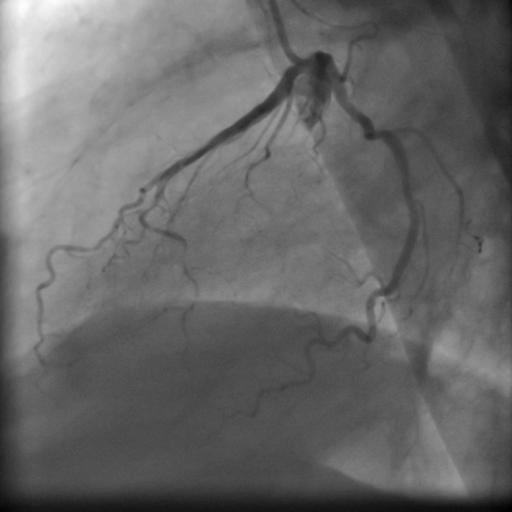Stenosis: (362, 113, 385, 147)
